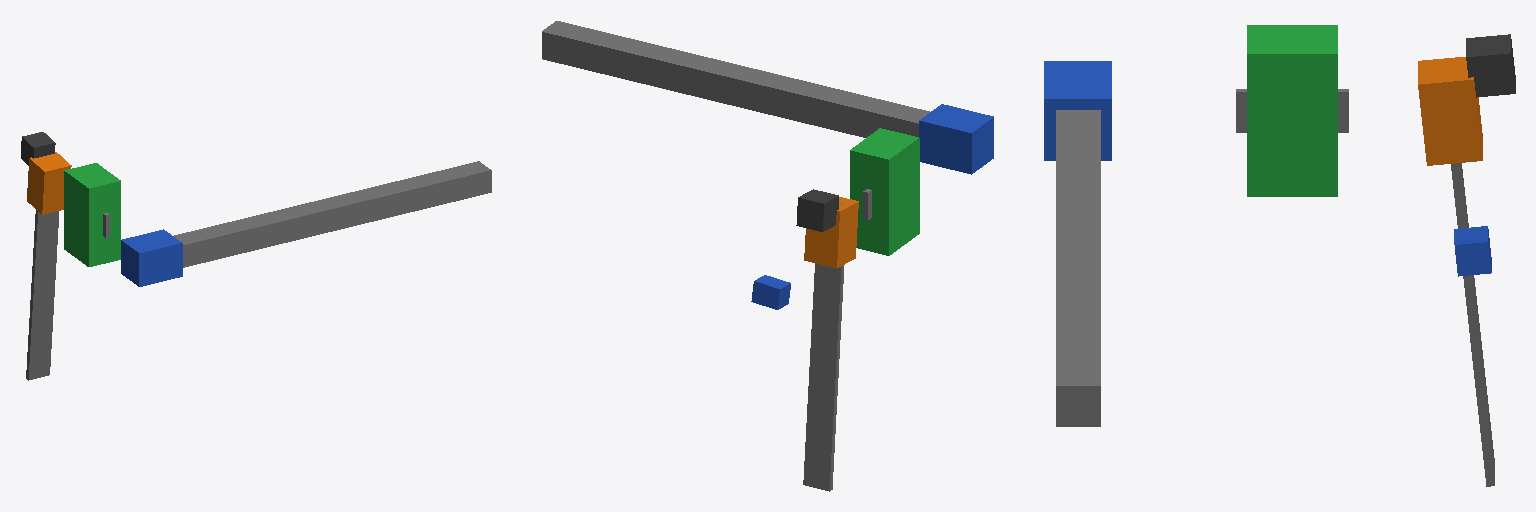
URDF robot description (side_arm):
<?xml version="1.0"?>
<!--
  Side Arm URDF - Cartesian Gantry Manipulator

  This URDF defines the side arm as a 4-DOF Cartesian gantry with:
  - X axis: Horizontal movement (belt drive, 0-300mm)
  - Y axis: Vertical movement (lead screw, 0-200mm)
  - Z axis: Depth movement (DC motor, 0-150mm)
  - Servo: Hook rotation (revolute, ±0.5 rad)

  Coordinate system (in side_arm_origin frame):
  - X positive: horizontal movement
  - Y positive: vertical movement (down)
  - Z positive: depth movement (hook extends)

  Parameters from launch configuration:
  - max_x_mm: 300.0
  - max_y_mm: 200.0
  - max_z_mm: 150.0
  - Hook offset: (-0.01, 0.009, 0.07)
  - Hook orientation: roll=-90°, pitch=0°, yaw=-90°
-->
<robot name="side_arm">

  <!-- ==================== MATERIALS ==================== -->
  <material name="rail_gray">
    <color rgba="0.5 0.5 0.5 1.0"/>
  </material>

  <material name="carriage_blue">
    <color rgba="0.2 0.4 0.8 1.0"/>
  </material>

  <material name="carriage_green">
    <color rgba="0.2 0.7 0.3 1.0"/>
  </material>

  <material name="carriage_orange">
    <color rgba="0.9 0.5 0.1 1.0"/>
  </material>

  <material name="hook_dark">
    <color rgba="0.3 0.3 0.3 1.0"/>
  </material>

  <!-- ==================== BASE LINK ==================== -->
  <!-- Root link - must match the TF frame name 'side_arm_origin' to connect to TF tree -->
  <link name="side_arm_origin">
    <!-- Small visual to show the origin point -->
    <visual>
      <origin xyz="0 0 0" rpy="0 0 0"/>
      <geometry>
        <sphere radius="0.01"/>
      </geometry>
      <material name="rail_gray"/>
    </visual>
  </link>

  <!-- ==================== X-AXIS (HORIZONTAL) ==================== -->
  <!-- X Rail - horizontal beam for belt-driven movement -->
  <!-- Offset positive so rail is on +X side, end effector moves toward x=0 (negative X) -->
  <link name="x_rail_link">
    <visual>
      <origin xyz="0.15 0 0" rpy="0 0 0"/>
      <geometry>
        <box size="0.32 0.02 0.02"/>
      </geometry>
      <material name="rail_gray"/>
    </visual>
  </link>

  <!-- Fixed joint from base to X rail -->
  <joint name="base_to_x_rail" type="fixed">
    <parent link="side_arm_origin"/>
    <child link="x_rail_link"/>
    <origin xyz="0 0 0" rpy="0 0 0"/>
  </joint>

  <!-- X Carriage - moves along X rail -->
  <link name="x_carriage_link">
    <visual>
      <origin xyz="0 0 0" rpy="0 0 0"/>
      <geometry>
        <box size="0.04 0.03 0.03"/>
      </geometry>
      <material name="carriage_blue"/>
    </visual>
  </link>

  <!-- Prismatic joint for X movement (0 to 0.3m) -->
  <!-- Negative axis so positive X moves toward world x=0 -->
  <joint name="joint_x" type="prismatic">
    <parent link="x_rail_link"/>
    <child link="x_carriage_link"/>
    <origin xyz="0 0 0" rpy="0 0 0"/>
    <axis xyz="-1 0 0"/>
    <limit lower="0.0" upper="0.3" effort="10" velocity="0.1"/>
  </joint>

  <!-- ==================== Y-AXIS (VERTICAL) ==================== -->
  <!-- Y Rail - vertical beam for lead-screw movement -->
  <!-- Offset positive so rail is ABOVE, end effector moves up when Y increases -->
  <link name="y_rail_link">
    <visual>
      <origin xyz="0 0 0" rpy="0 0 0"/>
      <geometry>
        <box size="0.004 0.05 0.02"/>
      </geometry>
      <material name="rail_gray"/>
    </visual>
  </link>

  <!-- Fixed joint from X carriage to Y rail -->
  <joint name="x_carriage_to_y_rail" type="fixed">
    <parent link="x_carriage_link"/>
    <child link="y_rail_link"/>
    <origin xyz="0 0.095 0" rpy="0 0 0"/>
  </joint>

  <!-- Y Carriage - moves along Y rail -->
  <link name="y_carriage_link">
    <visual>
      <origin xyz="0 0 0" rpy="0 0 0"/>
      <geometry>
        <box size="0.03 0.04 0.07"/>
      </geometry>
      <material name="carriage_green"/>
    </visual>
  </link>

  <!-- Prismatic joint for Y movement (0 to 0.2m) -->
  <joint name="joint_y" type="prismatic">
    <parent link="y_rail_link"/>
    <child link="y_carriage_link"/>
    <origin xyz="0 0 0" rpy="0 0 0"/>
    <axis xyz="0 1 0"/>
    <limit lower="0.0" upper="0.1" effort="10" velocity="0.05"/>
  </joint>

  <!-- ==================== Z-AXIS (DEPTH) ==================== -->
  <!-- Z Rail - depth beam for DC motor movement -->
  <!-- Offset negative so rail appears "behind" the carriage/hook -->
  <link name="z_rail_link">
    <visual>
      <origin xyz="0 0 -0.08" rpy="0 0 0"/>
      <geometry>
        <box size="0.02 0.004 0.20"/>
      </geometry>
      <material name="rail_gray"/>
    </visual>
  </link>

  <!-- Fixed joint from Y carriage to Z rail -->
  <joint name="y_carriage_to_z_rail" type="fixed">
    <parent link="y_carriage_link"/>
    <child link="z_rail_link"/>
    <origin xyz="0 0.07 0" rpy="0.1 0 0"/>
  </joint>

  <!-- Z Carriage - moves along Z rail -->
  <link name="z_carriage_link">
    <visual>
      <origin xyz="0 0 0" rpy="0 0 0"/>
      <geometry>
        <box size="0.025 0.025 0.04"/>
      </geometry>
      <material name="carriage_orange"/>
    </visual>
  </link>

  <!-- Prismatic joint for Z movement (0 to 0.20m) -->
  <joint name="joint_z" type="prismatic">
    <parent link="z_rail_link"/>
    <child link="z_carriage_link"/>
    <origin xyz="0 0 0" rpy="0 0 0"/>
    <axis xyz="0 0 1"/>
    <limit lower="0.0" upper="0.20" effort="10" velocity="0.01"/>
  </joint>

  <!-- ==================== SERVO/HOOK ==================== -->
  <!-- Servo mount link -->
  <link name="servo_link">
    <visual>
      <origin xyz="0 0 0" rpy="0 0 0"/>
      <geometry>
        <box size="0.02 0.02 0.02"/>
      </geometry>
      <material name="hook_dark"/>
    </visual>
  </link>

  <!-- Revolute joint for servo rotation (yaw axis for hook rotation) -->
  <joint name="joint_servo" type="revolute">
    <parent link="z_carriage_link"/>
    <child link="servo_link"/>
    <origin xyz="0 0.02 0.02" rpy="0 0 0"/>
    <axis xyz="0 0 1"/>  <!-- Yaw axis (Z) for hook rotation -->
    <limit lower="-0.5" upper="0.5" effort="1" velocity="1.0"/>
  </joint>

  <!-- Hook link with mesh visualization -->
  <!-- Rotated to point toward y=0 in world frame -->
  <link name="hook_link">
    <visual>
      <origin xyz="0 -0.015 0" rpy="-1.5708 0 1.5708"/>
      <geometry>
        <mesh filename="package://side_arm_control/meshes/hook.stl" scale="0.001 0.001 0.001"/>
      </geometry>
      <material name="hook_dark"/>
    </visual>
  </link>

  <!-- Fixed joint from servo to hook (flipped offset to put link on other side) -->
  <joint name="servo_to_hook" type="fixed">
    <parent link="servo_link"/>
    <child link="hook_link"/>
    <origin xyz="0.01 0.009 -0.18" rpy="0 0 0"/>
  </joint>

  <!-- ==================== CAMERA FRAME ==================== -->
  <!-- Camera frame - used by detection_simulator and loop_visualizer -->
  <!-- Named 'camera_frame' to match expected TF frame name -->
  <link name="camera_frame">
    <visual>
      <origin xyz="0 0 0" rpy="0 0 0"/>
      <geometry>
        <box size="0.02 0.015 0.015"/>
      </geometry>
      <material name="carriage_blue"/>
    </visual>
  </link>

  <!-- Fixed joint from Y carriage to camera -->
  <!-- Camera +Z axis should point toward loops (toward -Y in side_arm_origin frame) -->
  <!-- Rotation: roll=90° to align camera Z with the direction toward loops -->
  <joint name="y_carriage_to_camera" type="fixed">
    <parent link="y_carriage_link"/>
    <child link="camera_frame"/>
    <origin xyz="0.04 0.08 -0.05" rpy="0.1 3.2116 3.1416"/>
  </joint>

</robot>

--- Render facts (derived) ---
3 views of the same robot in one strip: view 1: azimuth 30°, elevation 25°; view 2: azimuth 150°, elevation 25°; view 3: azimuth 270°, elevation 25° (orthographic).
Robot: side_arm — 10 links, 9 joints (1 revolute, 3 prismatic, 5 fixed); root link side_arm_origin; default pose: all joints at 0.
Links seen in each view (by area): view 1: x_rail_link, y_carriage_link, z_rail_link, x_carriage_link, z_carriage_link, servo_link; view 2: x_rail_link, y_carriage_link, z_rail_link, x_carriage_link, z_carriage_link, servo_link, camera_frame; view 3: y_carriage_link, x_rail_link, z_carriage_link, x_carriage_link, z_rail_link, servo_link, camera_frame, y_rail_link.
Link boxes in pixels (<box>): x_rail_link: <box>174,161,491,267</box>; y_carriage_link: <box>64,163,120,266</box>; z_rail_link: <box>26,210,58,380</box>; x_carriage_link: <box>121,229,182,286</box>; z_carriage_link: <box>27,152,71,214</box>; servo_link: <box>21,132,55,165</box>; x_rail_link: <box>542,21,929,137</box>; y_carriage_link: <box>850,128,919,255</box>; z_rail_link: <box>803,203,846,491</box>; x_carriage_link: <box>919,104,993,174</box>; z_carriage_link: <box>804,197,858,268</box>; servo_link: <box>796,189,838,231</box>; camera_frame: <box>751,275,790,309</box>; y_carriage_link: <box>1247,25,1337,196</box>; x_rail_link: <box>1056,110,1100,426</box>; z_carriage_link: <box>1418,57,1482,165</box>; x_carriage_link: <box>1044,61,1111,160</box>; z_rail_link: <box>1451,163,1494,486</box>; servo_link: <box>1466,34,1515,97</box>; camera_frame: <box>1454,226,1491,276</box>; y_rail_link: <box>1236,89,1348,132</box>.
Bounding box of the posed robot: 0.33 × 0.2089 × 0.2143 m (x, y, z).
Meshes: 1 distinct files referenced, 0 mesh visuals loaded (none loaded); not drawn: 1 (reference not matched to a file when rendering).
